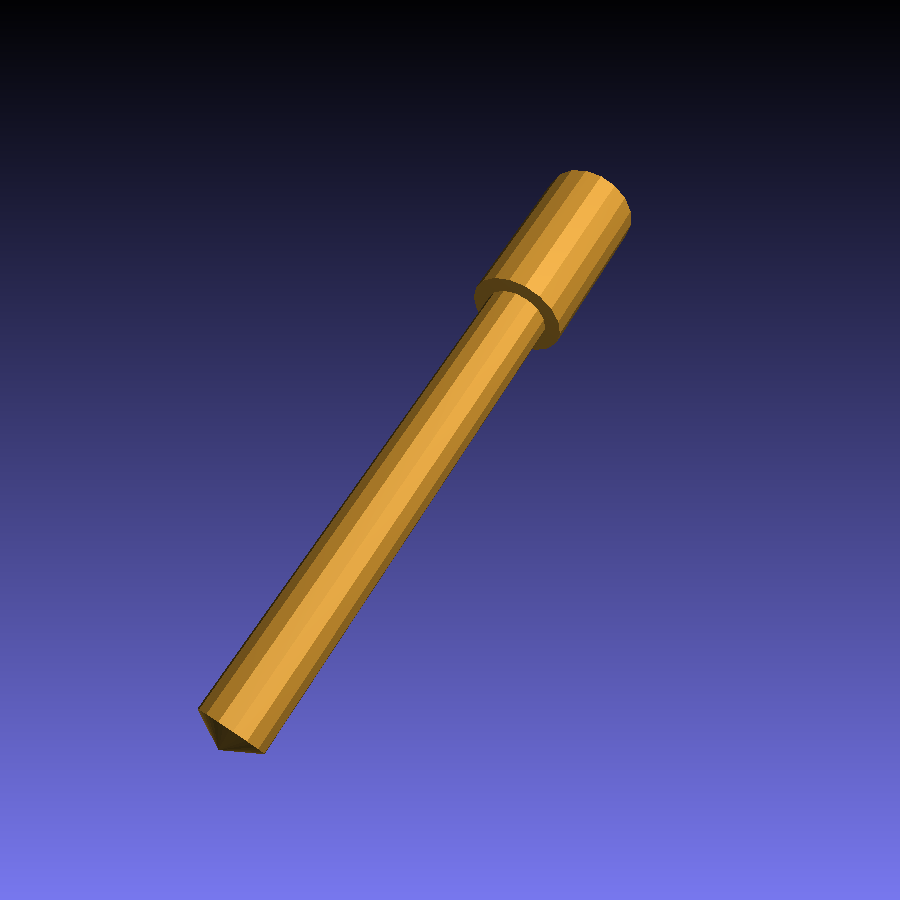cargo_g: (199, 167, 631, 753)
